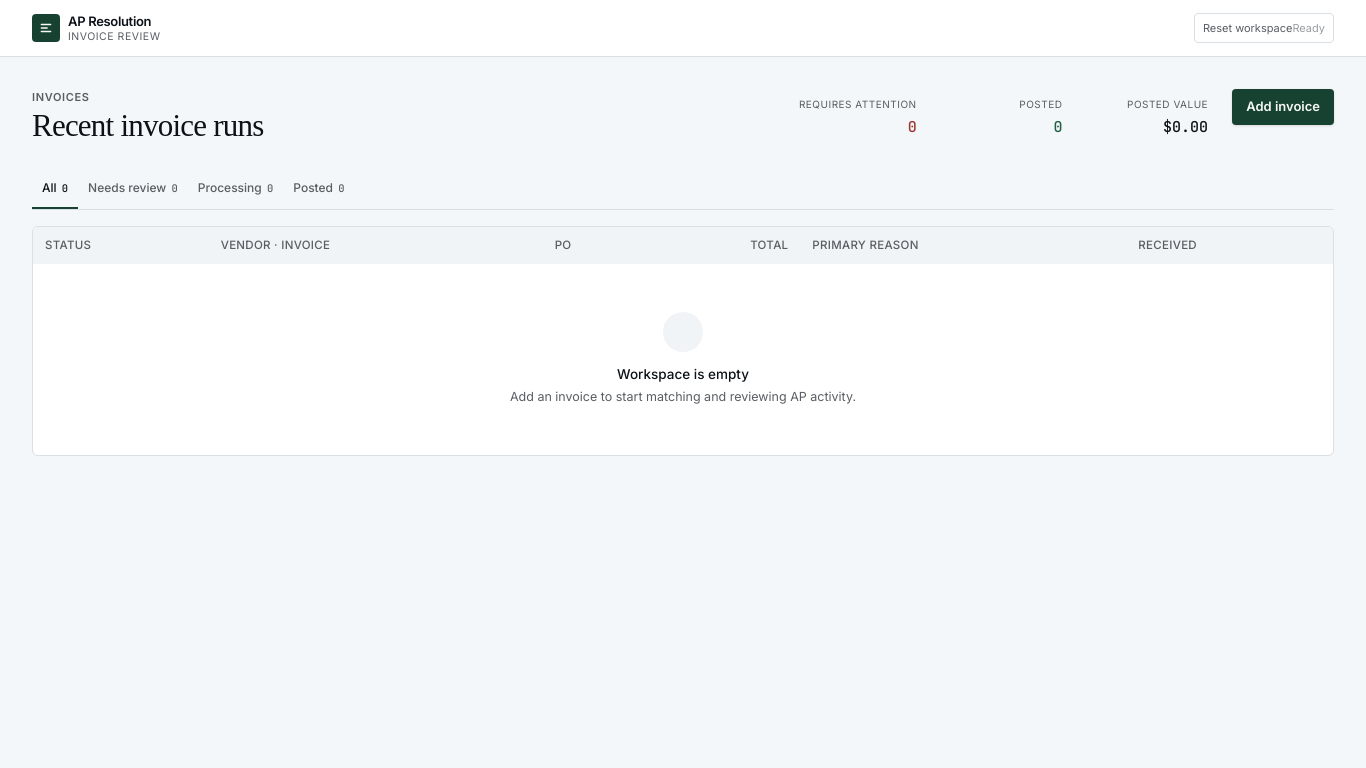
Test: main Lovable frontend › uses one dashboard with an invoice upload modal
The width and height of the screenshot is (1366, 768).
Expected: the heading "Recent invoice runs" is shown, [32,110,264,140]
Click the button "Add invoice" at (1283, 107), box [1232,89,1334,124]
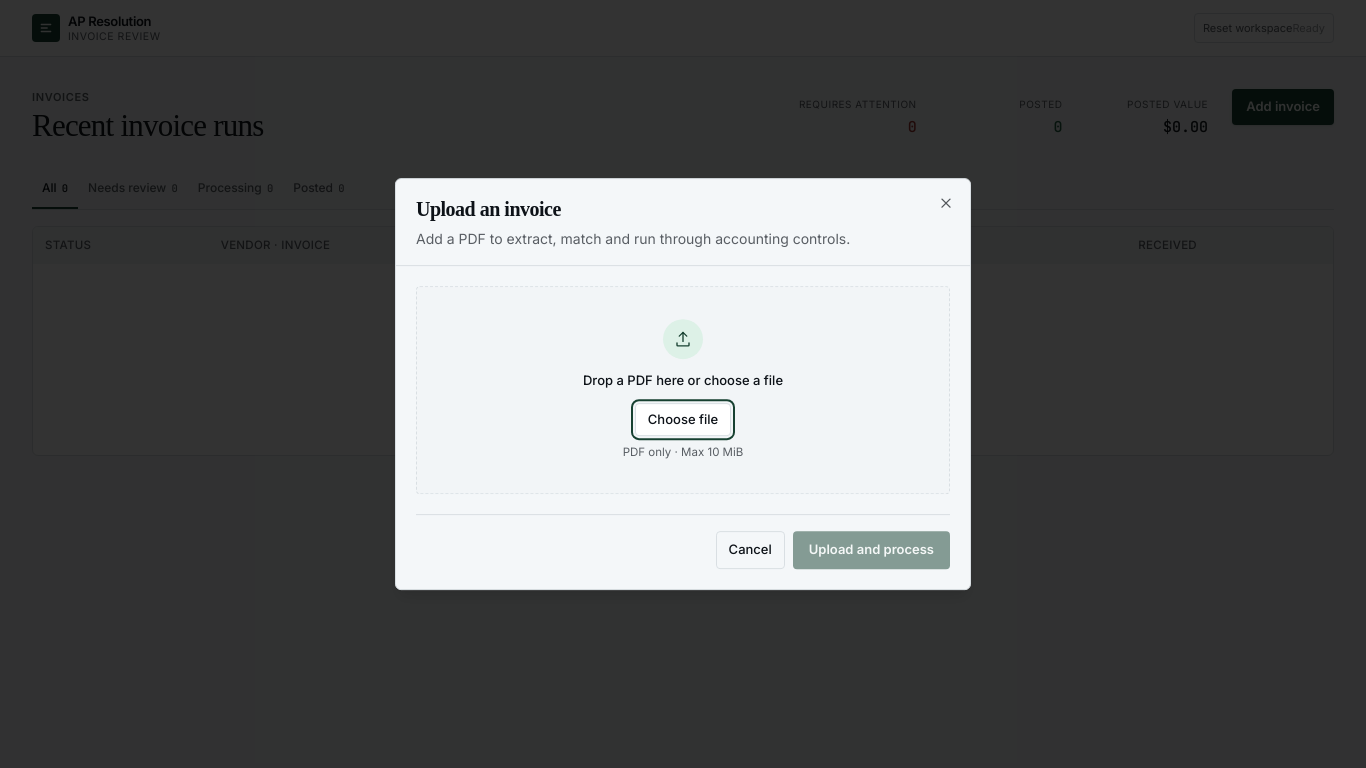
Now the dialog "Upload an invoice" is shown, box [395,178,971,590]
